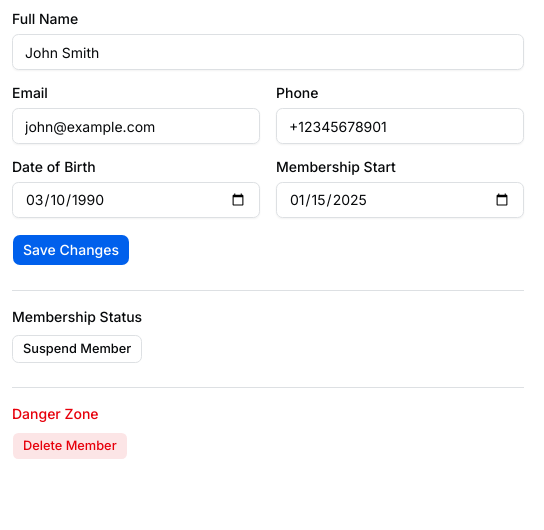
Test: EditMemberForm › editMemberForm_validUpdate_callsUpdateWithTrimmedPayloadShowsSuccessAndRefreshesPage
Replace the text in the field labelled "Full Name" with "  John Updated  " at {"x": 268, "y": 52}, box [12,34,524,70]
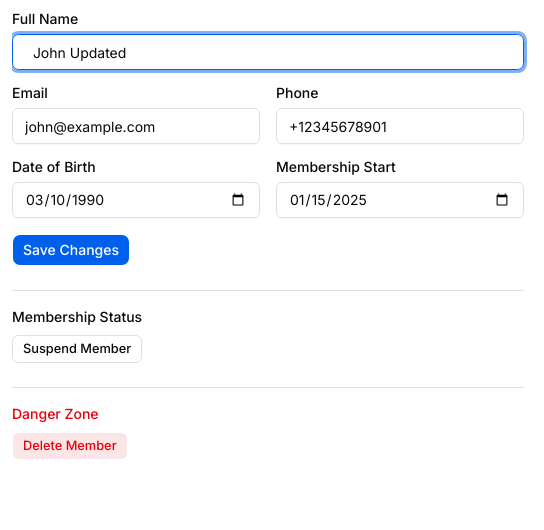
Replace the text in the field labelled "Email" with "  john.updated@example.com  " at {"x": 136, "y": 126}, box [12,108,260,144]
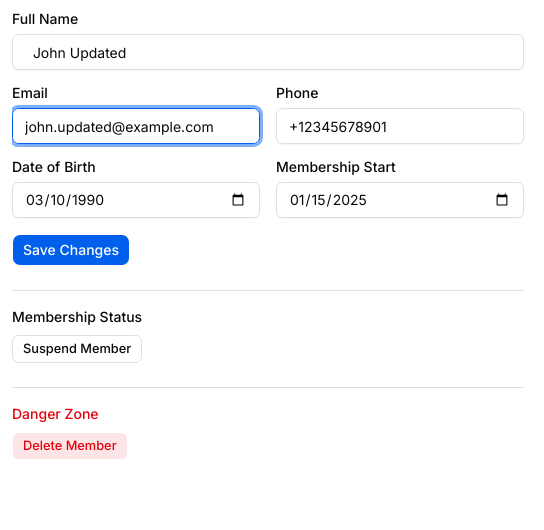
Replace the text in the field labelled "Phone" with "+10987654321" at {"x": 400, "y": 126}, box [276,108,524,144]
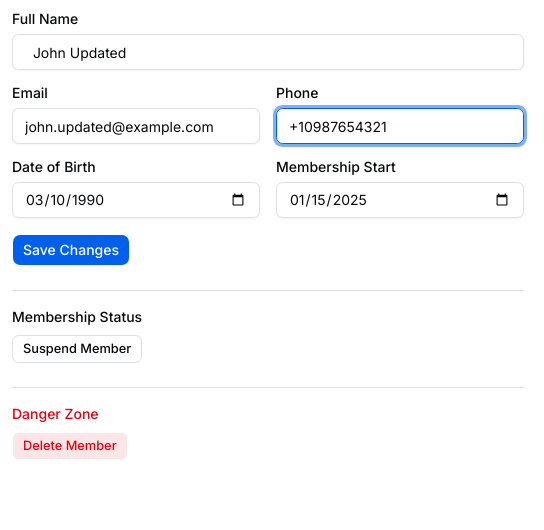
Click the button "Save Changes" at {"x": 71, "y": 250}, box [12,234,130,266]
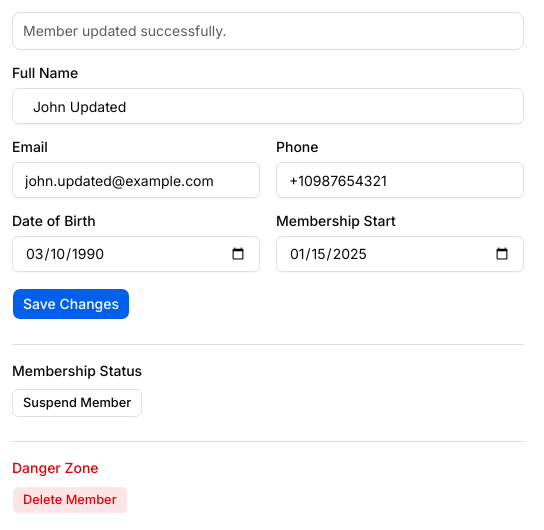
Check: the text "Member updated successfully." is shown, box [23,22,227,39]
